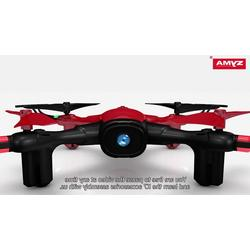drone: (1, 100, 250, 191)
